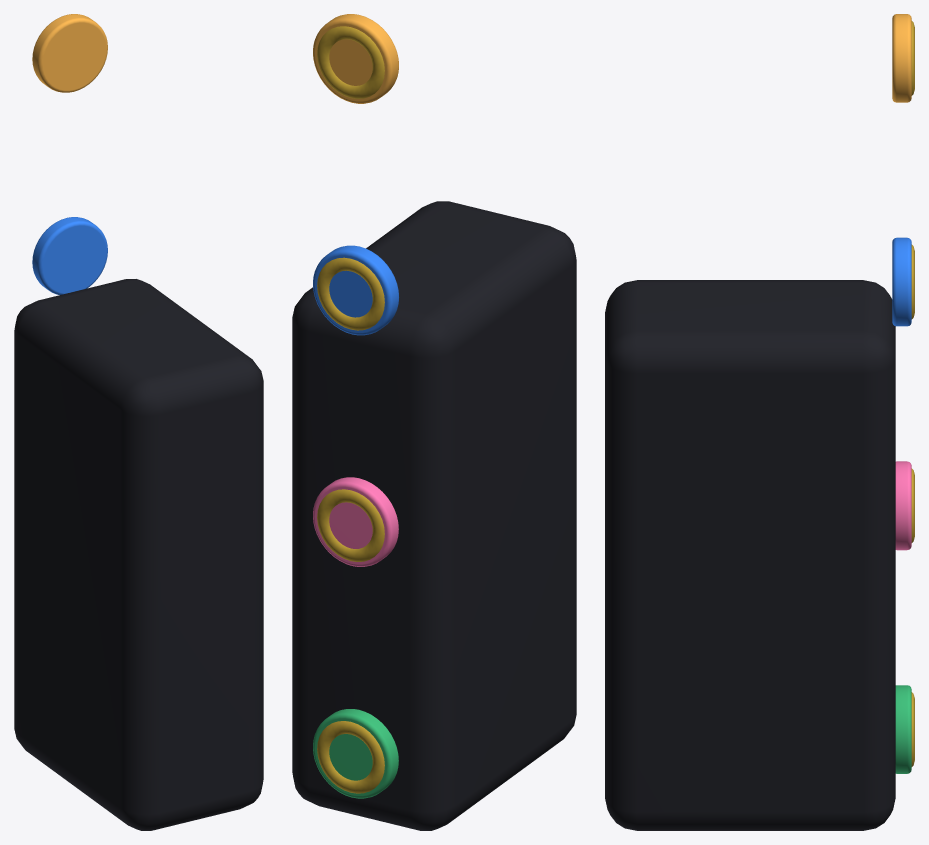
3 views of the same model, side by side, from view 1: azimuth 30°, elevation 25°; view 2: azimuth 150°, elevation 25°; view 3: azimuth 270°, elevation 25° (orthographic). The views are drawn at different scales.
Parts seen in each view (by area): view 1: part_077; view 2: part_077; view 3: part_077.
Part boxes in pixels (x1,y1,x2,y2): part_077: (14,14,263,830); part_077: (292,14,576,830); part_077: (605,14,914,830).
Bounding box in the file's own units: 0.11 × 0.5375 × 0.192.
